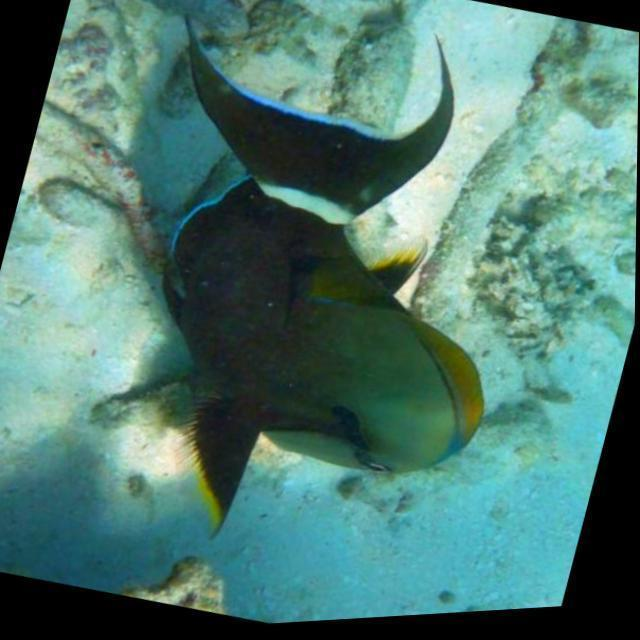Dead Coral: (410, 2, 640, 375), (331, 0, 426, 124)
